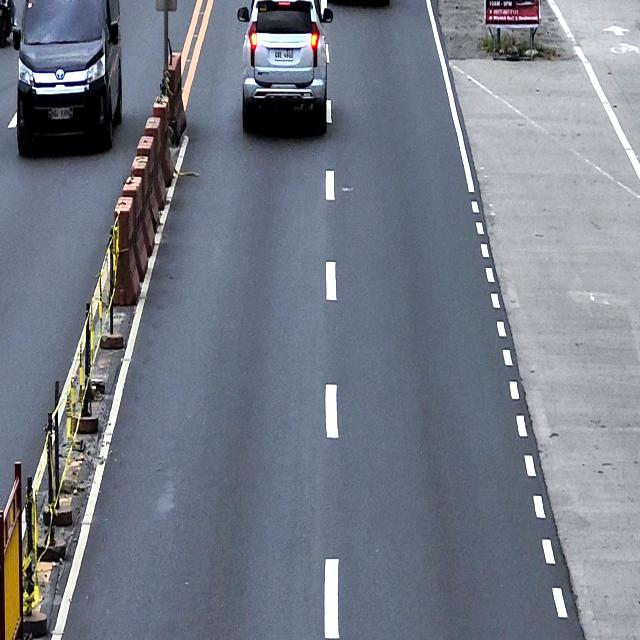Car: (11, 0, 126, 154), (237, 0, 332, 139)
License-Plate: (49, 105, 73, 122), (274, 48, 294, 62)
